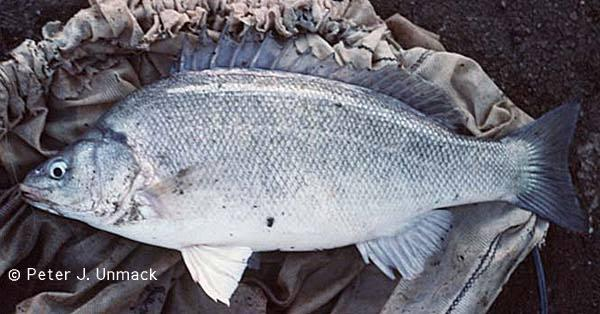Silver Perch: (17, 20, 594, 308)
